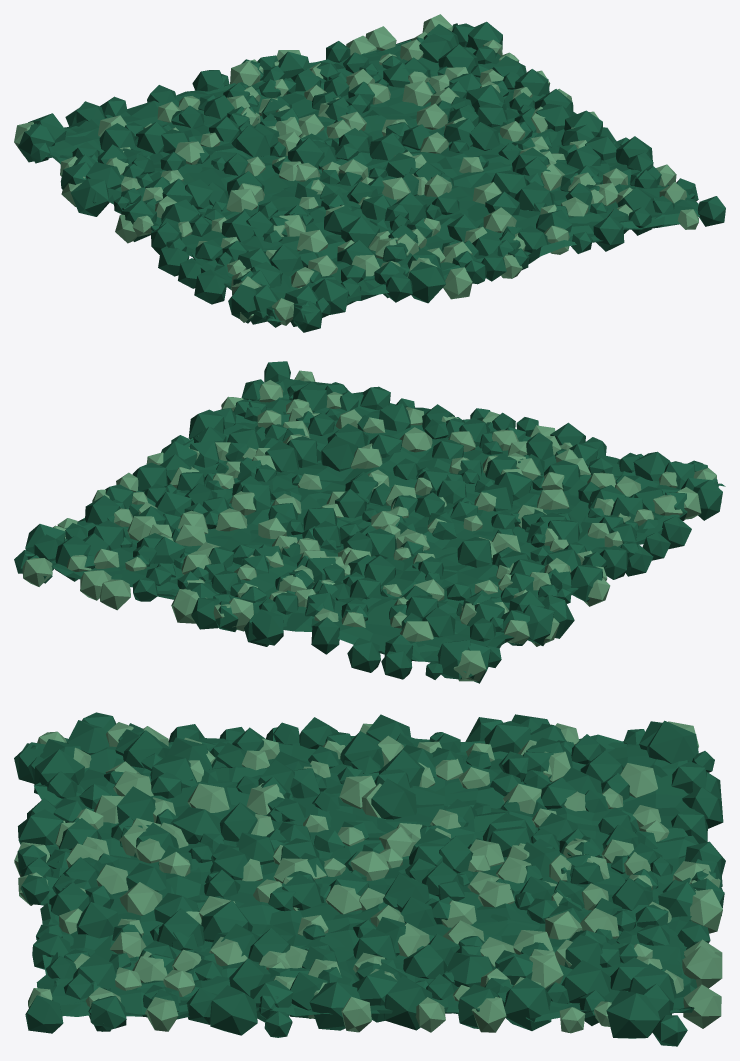
Rendered from background.fbx.
3 views of the same model, one above another, from view 1: azimuth 30°, elevation 25°; view 2: azimuth 150°, elevation 25°; view 3: azimuth 270°, elevation 25° (orthographic). The views are drawn at different scales.
Parts seen in each view (by area): view 1: Plane.001; view 2: Plane.001; view 3: Plane.001.
Boxes of the visible parts, x1,y1,x2,y2 form: Plane.001: (14,14,725,332); Plane.001: (14,361,725,683); Plane.001: (14,712,725,1046).
Bounding box in the file's own units: 11778 × 1003 × 11711.
